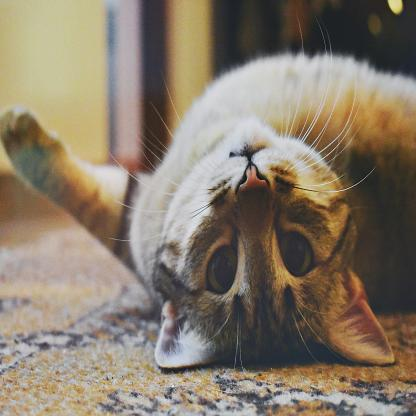cat: (4, 30, 415, 377)
